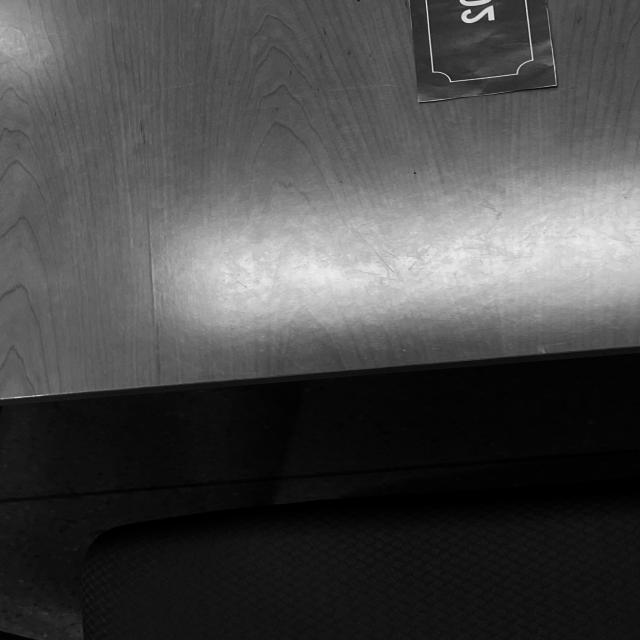Card: (391, 0, 567, 104)
